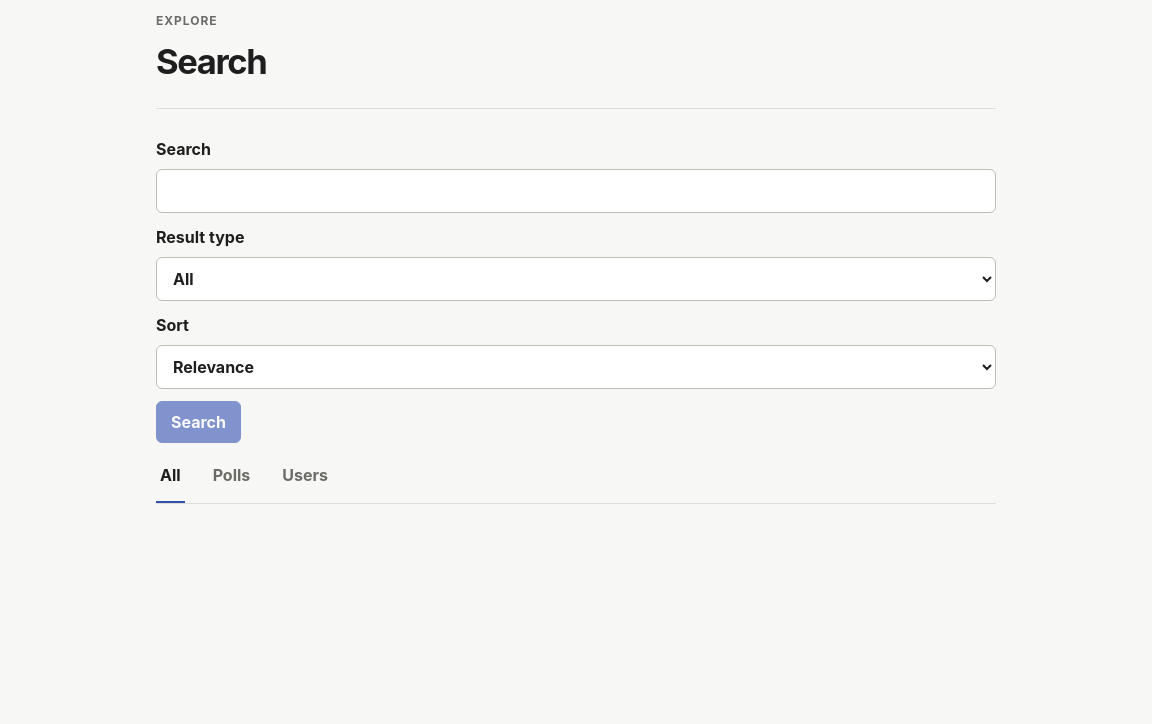
Test case: ignores an old search response when query changes and permits a new search
Type "climate" into the field labelled "Search". click: (576, 191)
box: [156,169,996,213]
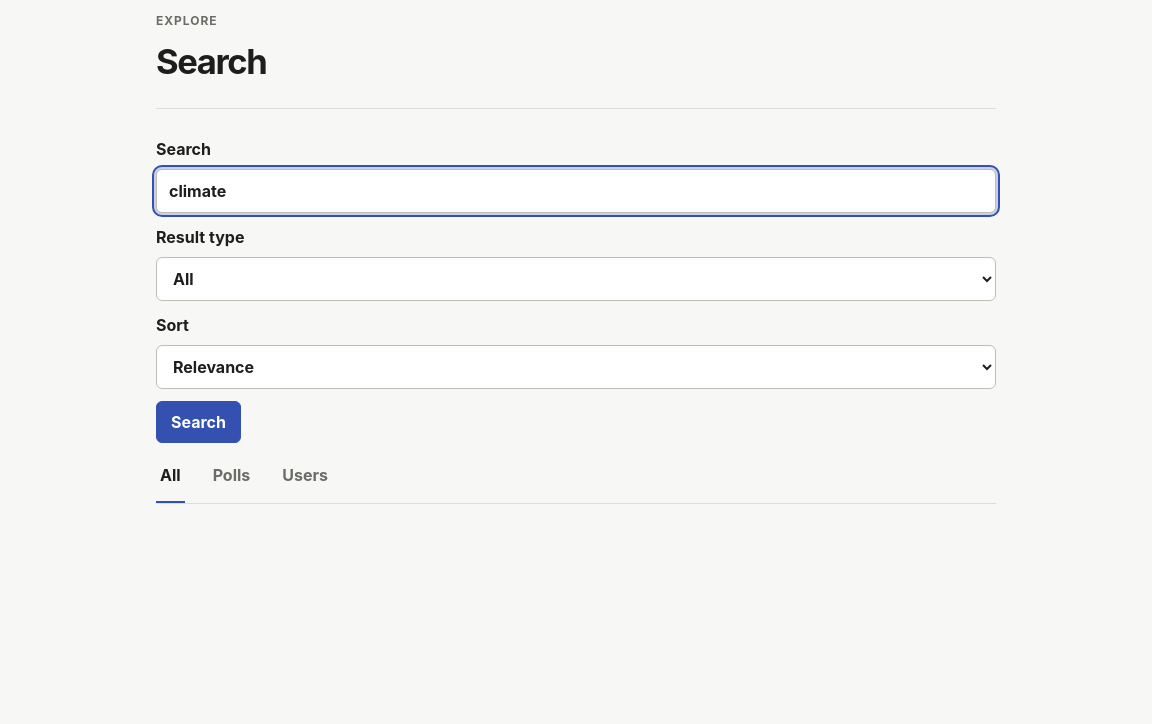
Click the button "Search". click: click(198, 422)
box: [156,401,241,443]
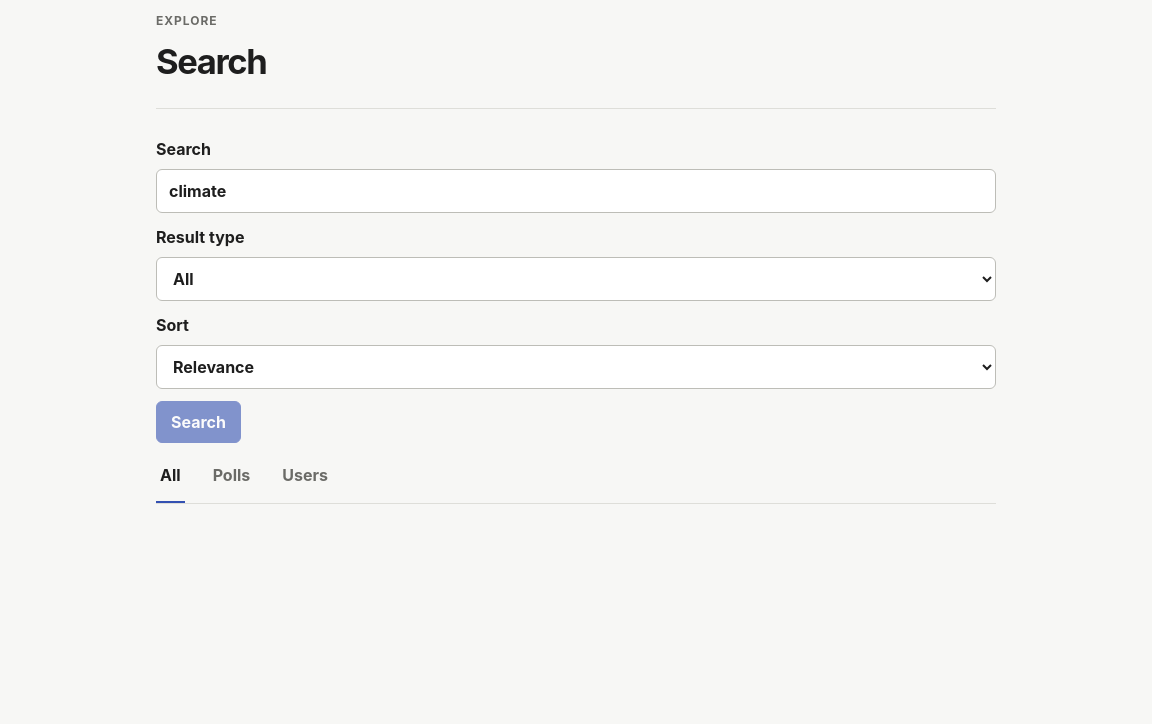
Replace the text in the field labelled "Search" with "energy". click: (576, 191)
box: [156,169,996,213]
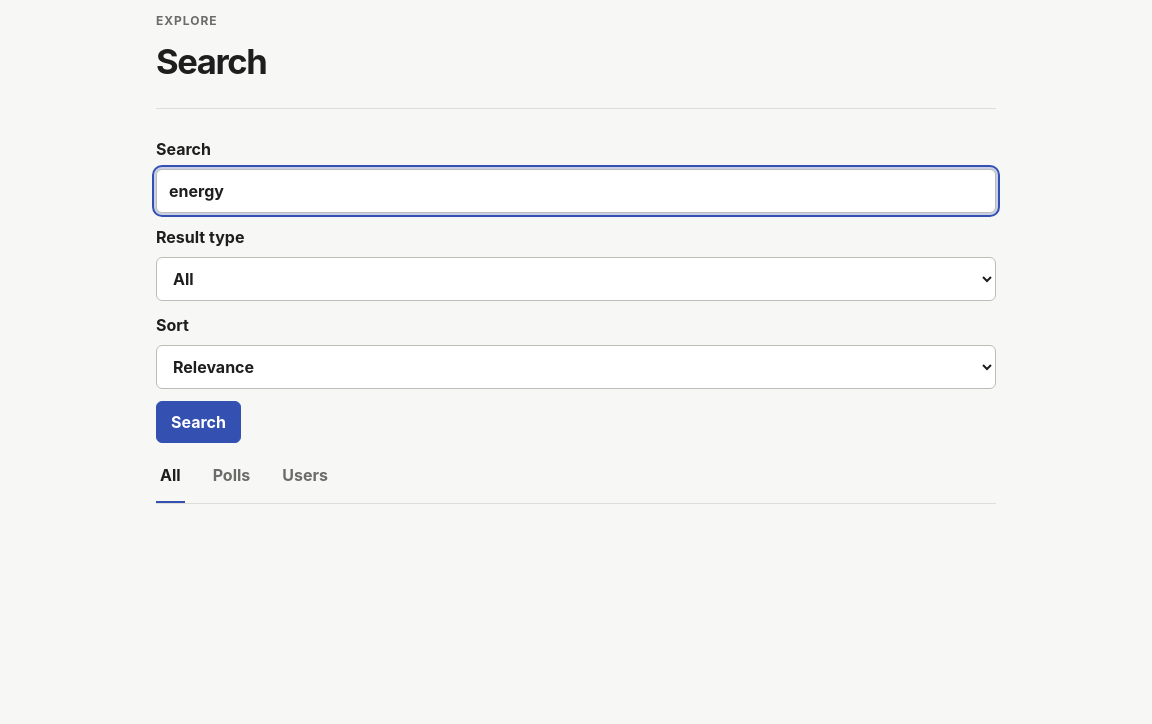
Expected: the button "Search" is enabled
Click the button "Search". click: click(198, 422)
box: [156,401,241,443]
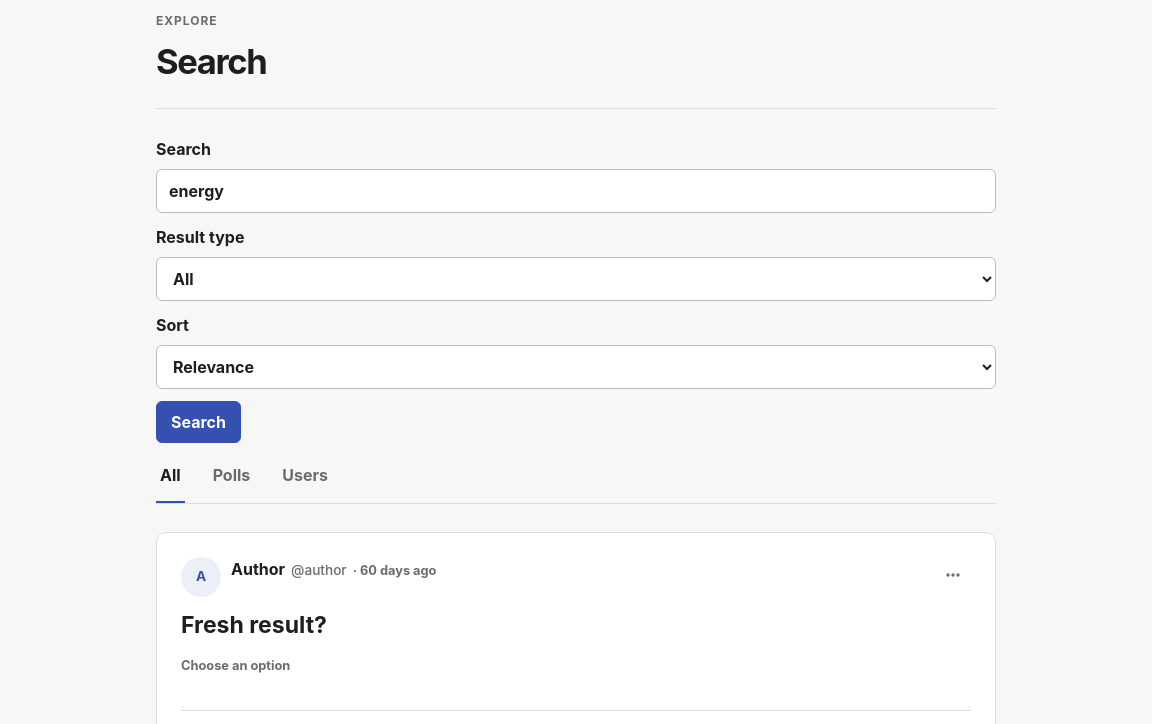
Expected: the link "Fresh result?" is shown, [181,611,327,639]
